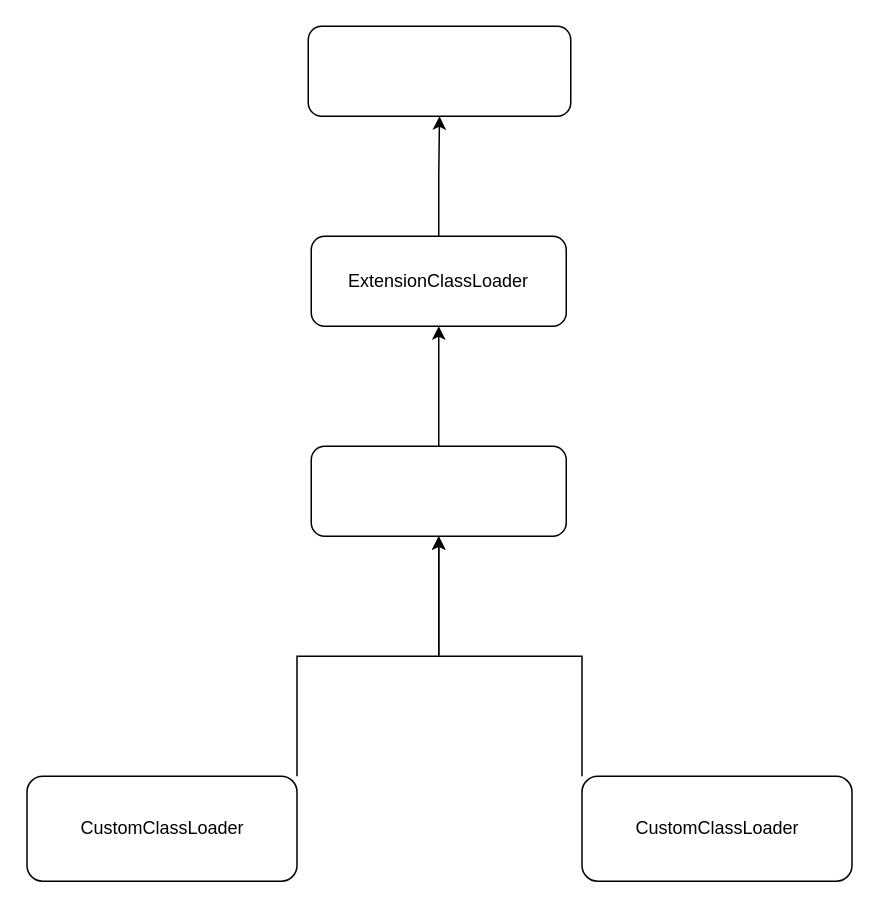
Image size: 878x908. Some labels were removed from this diagram. Each missing label, with the box of its shape:
ApplicationClassLoader: (310, 445, 566, 536)
BootStrapClassLoader: (307, 25, 571, 116)
